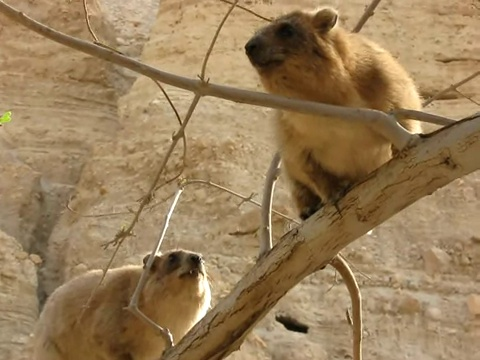Rock Hyrex: (244, 6, 427, 225), (30, 249, 212, 360)
